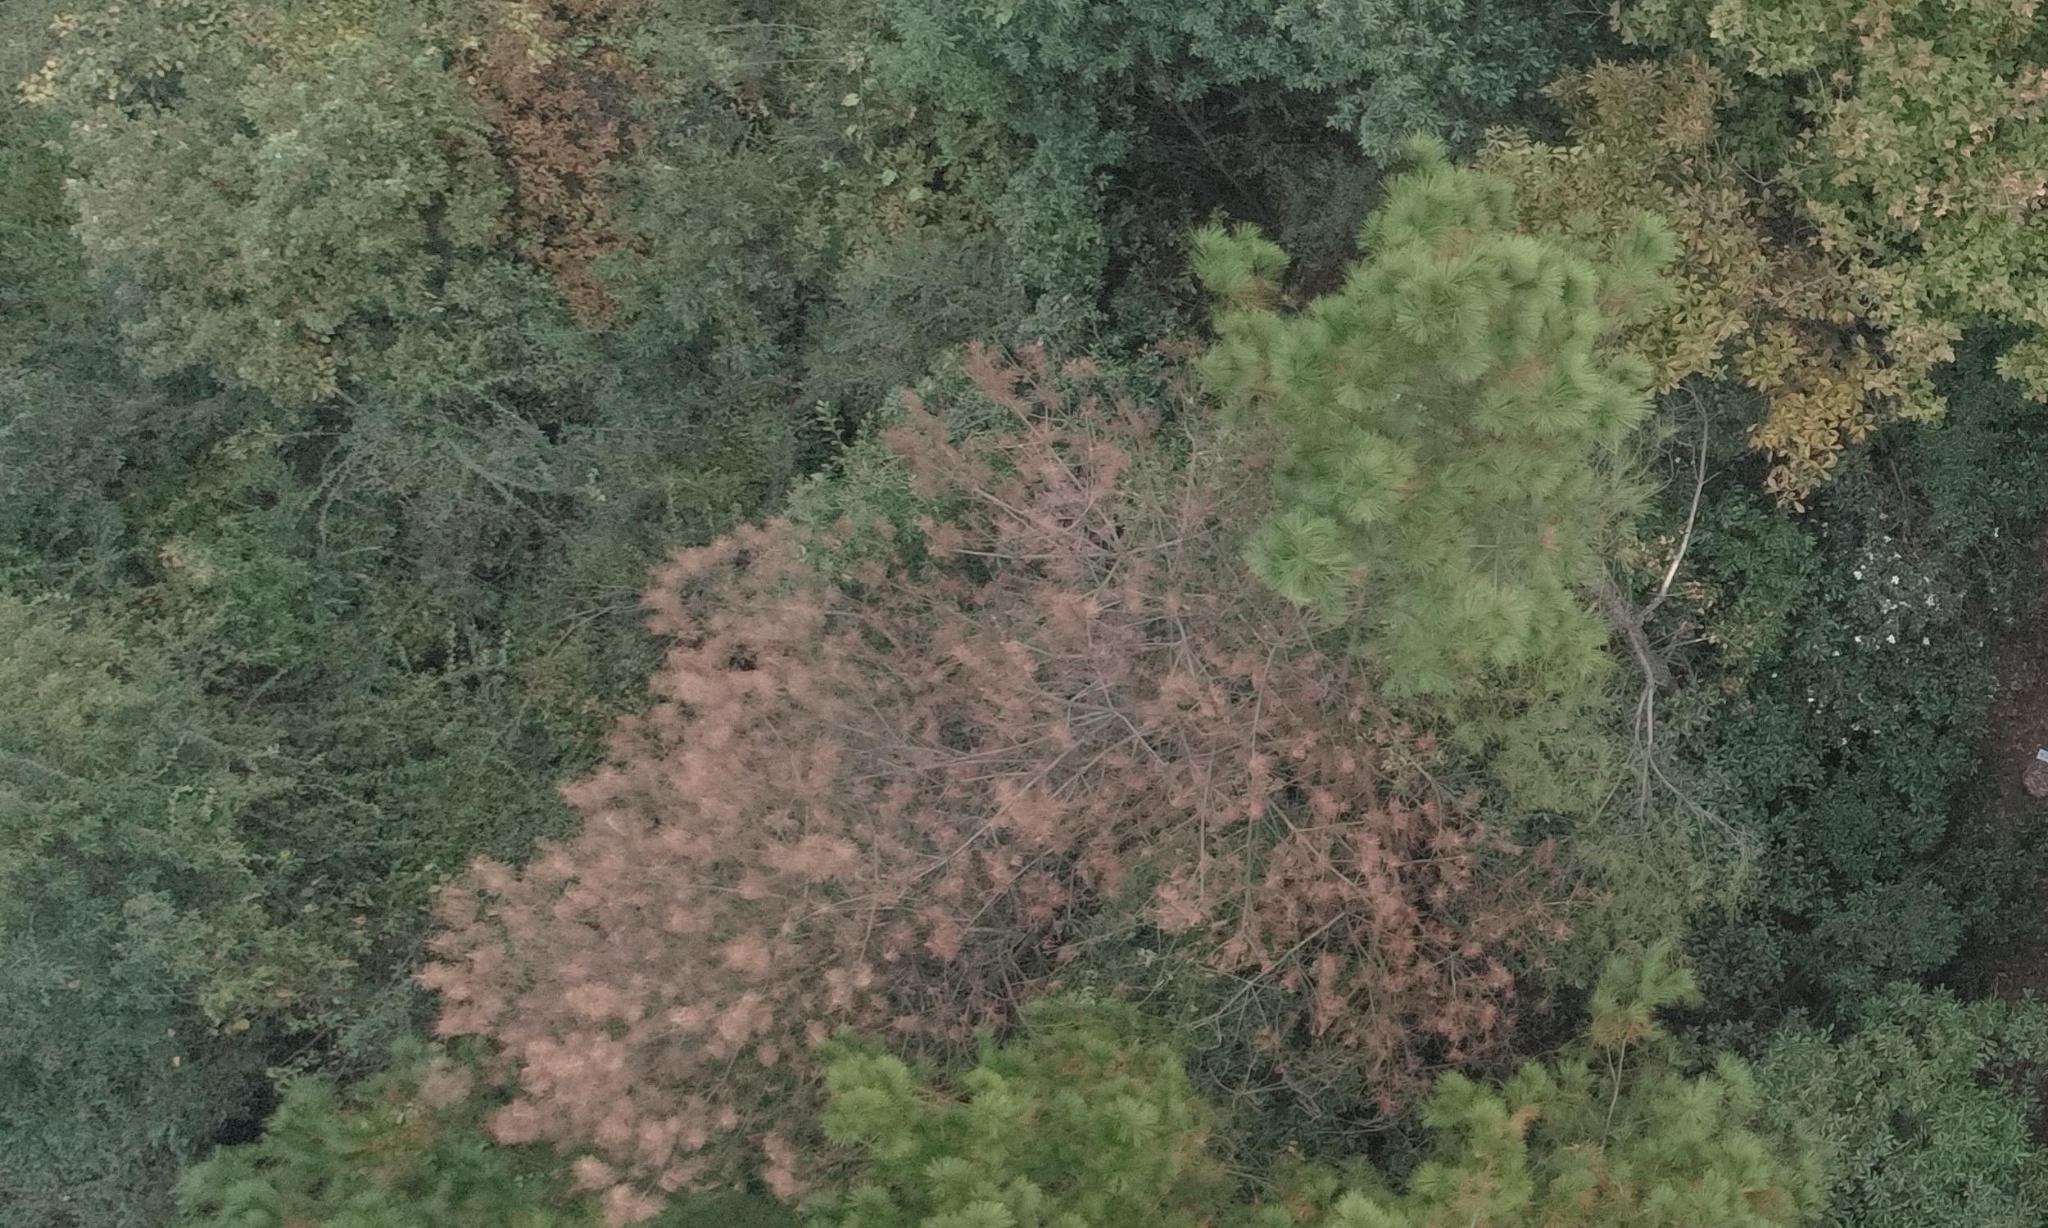heavy: (966, 335, 1548, 1067), (418, 526, 950, 1219)
